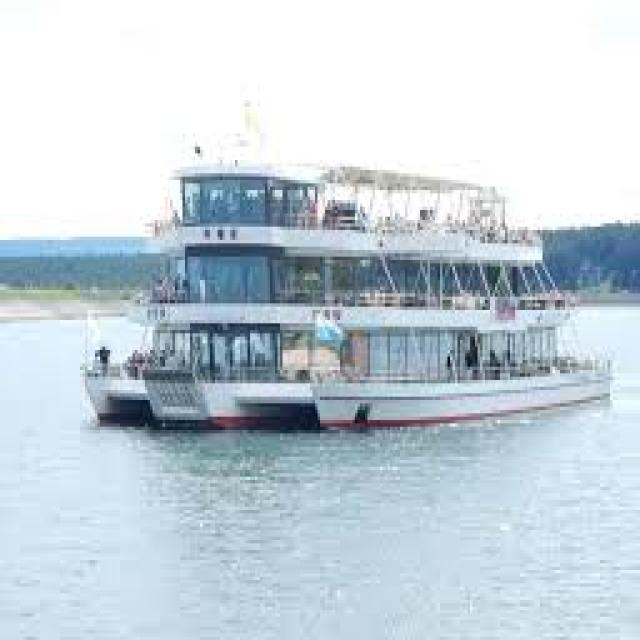passenger ship: (107, 139, 598, 417)
